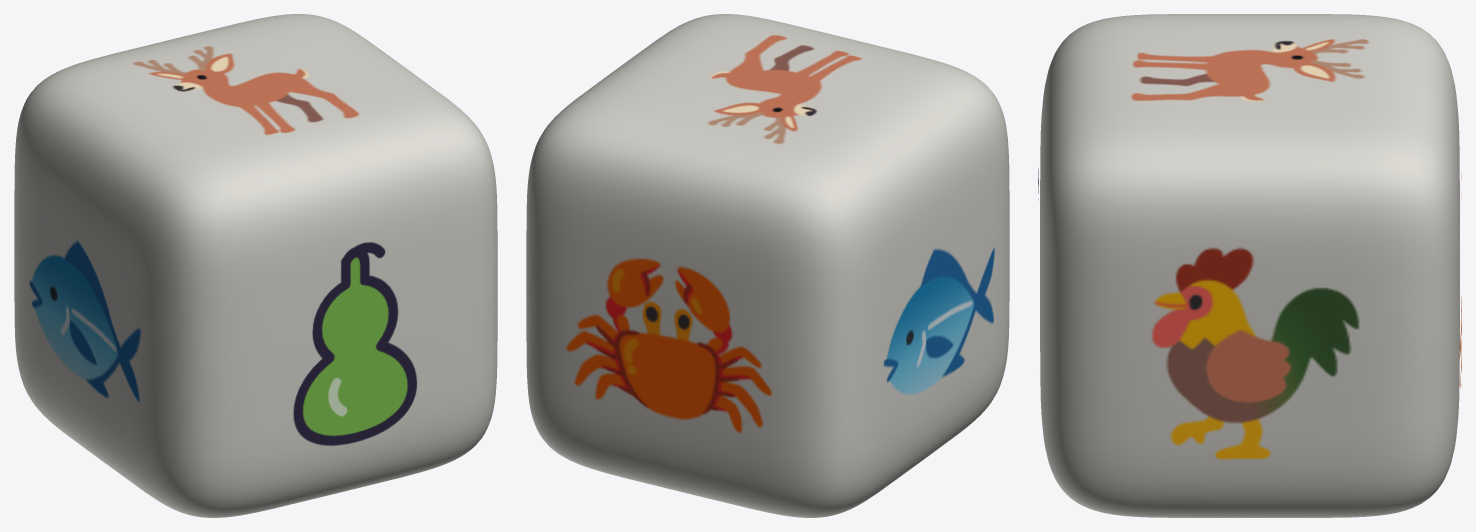
File: dice-animals.glb
The picture shows the model from 3 angles, left to right: view 1: azimuth 30°, elevation 25°; view 2: azimuth 150°, elevation 25°; view 3: azimuth 270°, elevation 25°; orthographic projection. The views are drawn at different scales.
Visible parts, largest first — view 1: dice_body, decal_bau, decal_ca, decal_nai; view 2: dice_body, decal_cua, decal_ca, decal_nai; view 3: dice_body, decal_ga, decal_nai.
Part boxes in pixels (x1=…): dice_body: x1=14, y1=14, x2=497, y2=517; decal_bau: x1=293, y1=242, x2=416, y2=445; decal_ca: x1=29, y1=240, x2=140, y2=402; decal_nai: x1=132, y1=46, x2=359, y2=134; dice_body: x1=526, y1=14, x2=1009, y2=517; decal_cua: x1=566, y1=258, x2=772, y2=432; decal_ca: x1=883, y1=247, x2=994, y2=395; decal_nai: x1=708, y1=35, x2=862, y2=143; dice_body: x1=1040, y1=14, x2=1459, y2=517; decal_ga: x1=1152, y1=247, x2=1359, y2=459; decal_nai: x1=1131, y1=39, x2=1369, y2=101.
Bounding box in the file's own units: 1.01 × 1.01 × 1.01.
Materials: 7 (6 with a texture image).
